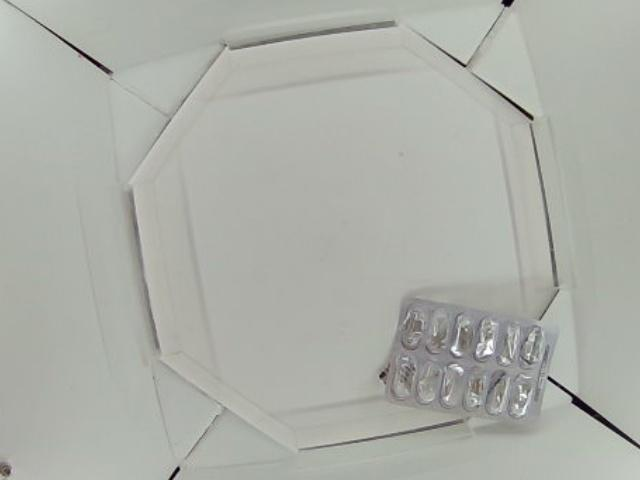Medicine: (380, 297, 558, 426)
